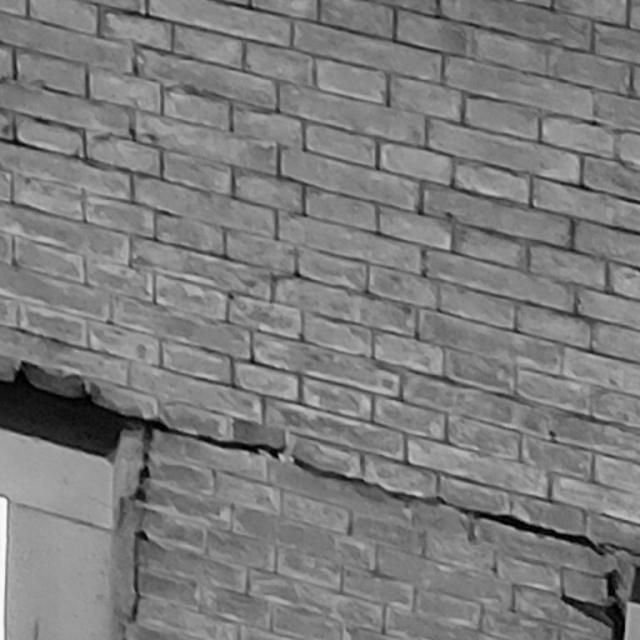crack: (1, 370, 640, 639)
